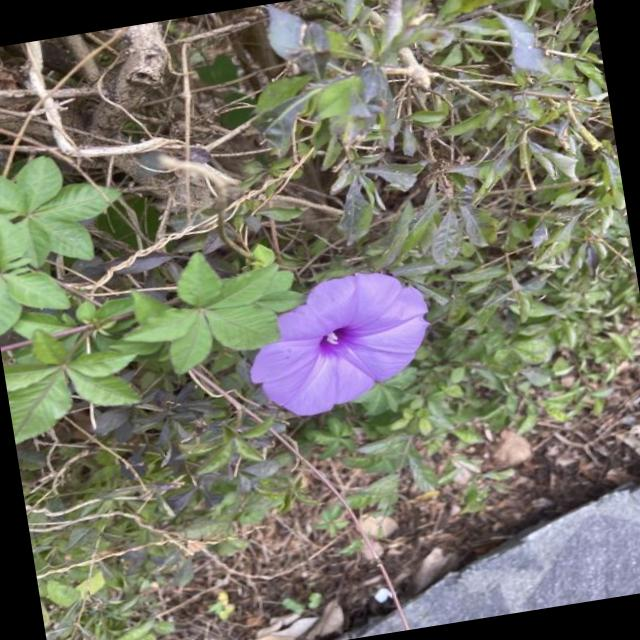ipomoea: (233, 259, 448, 428)
